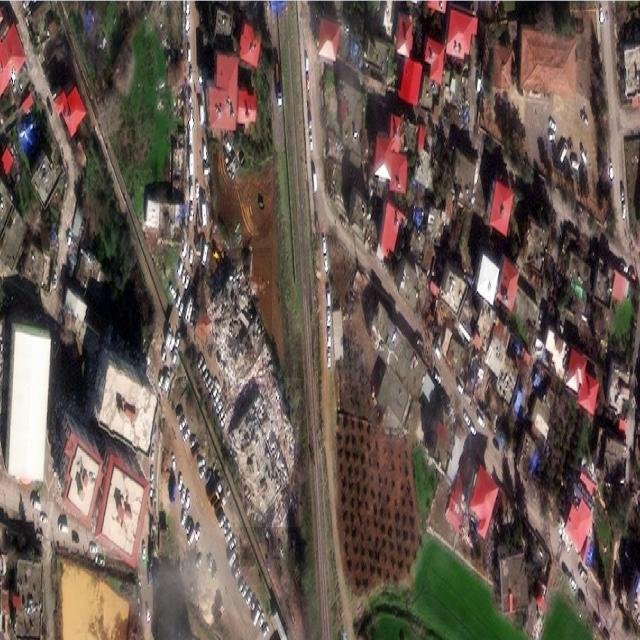Rubble: (225, 378, 301, 527), (201, 248, 272, 376)
